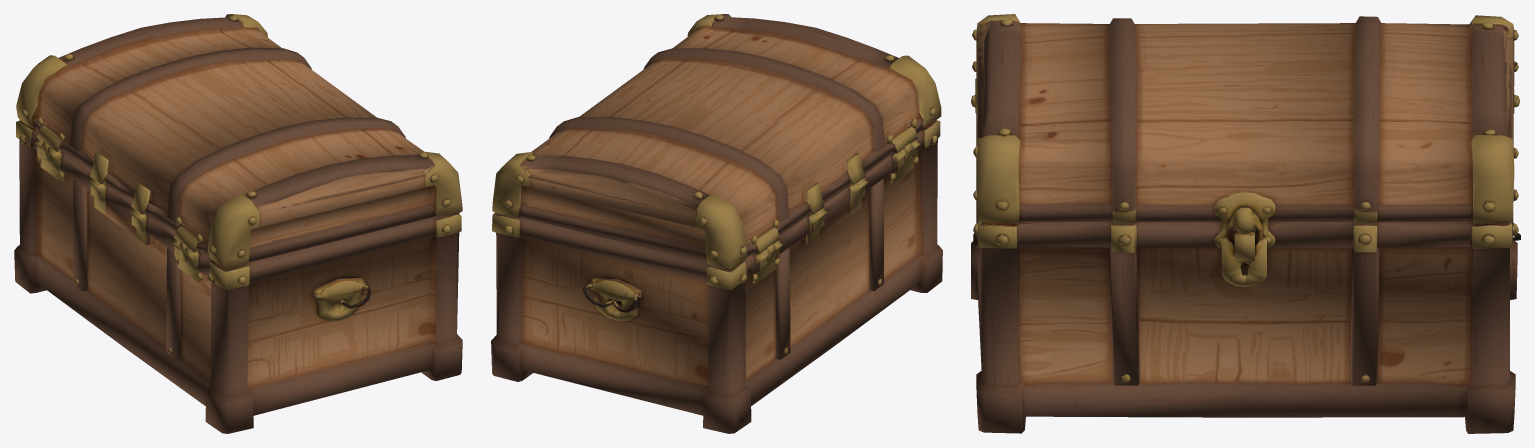
File: treasure-chest.glb
3 views of the same model, side by side, from view 1: azimuth 30°, elevation 25°; view 2: azimuth 150°, elevation 25°; view 3: azimuth 270°, elevation 25° (orthographic). The views are drawn at different scales.
Parts seen in each view (by area): view 1: tripo_node_c95ac72c-42e8-429d-b861-47456bfb1b42; view 2: tripo_node_c95ac72c-42e8-429d-b861-47456bfb1b42; view 3: tripo_node_c95ac72c-42e8-429d-b861-47456bfb1b42.
Part boxes in pixels (x1,y1,x2,y2): tripo_node_c95ac72c-42e8-429d-b861-47456bfb1b42: [14, 14, 462, 433]; tripo_node_c95ac72c-42e8-429d-b861-47456bfb1b42: [491, 14, 942, 433]; tripo_node_c95ac72c-42e8-429d-b861-47456bfb1b42: [971, 14, 1520, 433].
Bounding box in the file's own units: 0.6934 × 0.5996 × 0.998.
Materials: 1 (1 with a texture image).
